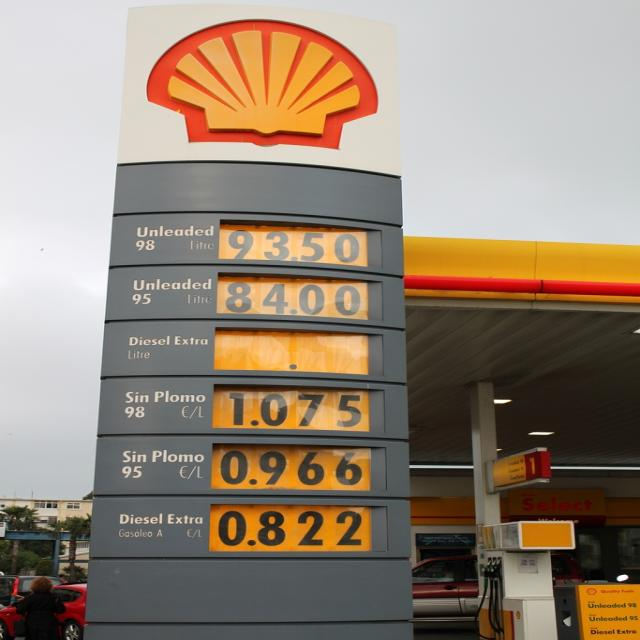shell: (146, 20, 385, 151)
